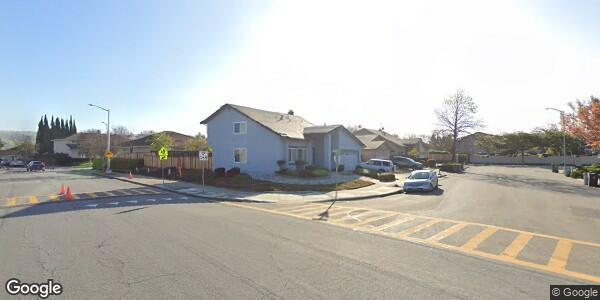Steel_Pole: (85, 101, 115, 177)
